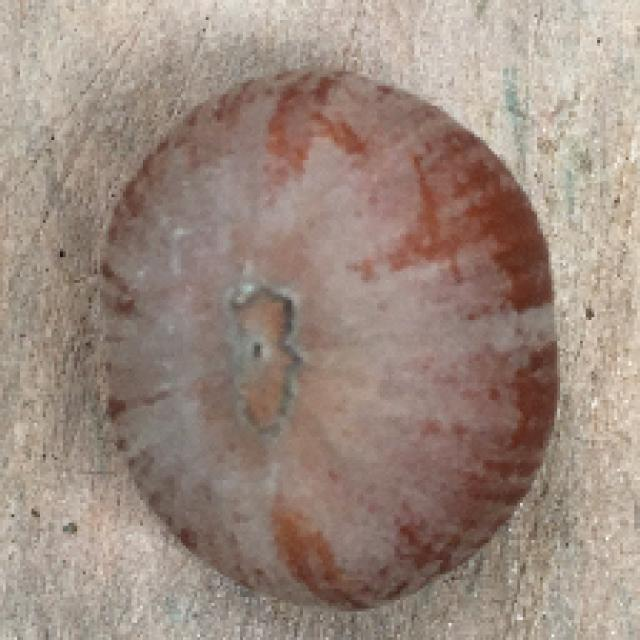hazelnut: (95, 59, 561, 603)
